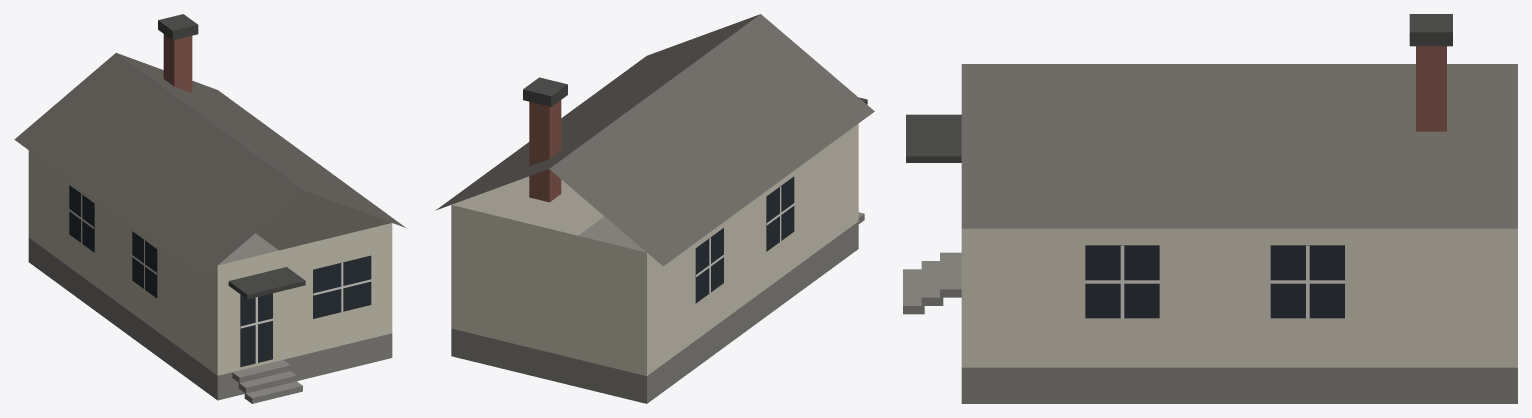
The model's file is lassis-inn.glb.
3 views of the same model, side by side, from view 1: azimuth 30°, elevation 25°; view 2: azimuth 150°, elevation 25°; view 3: azimuth 270°, elevation 25° (orthographic). The views are drawn at different scales.
Parts seen in each view (by area): view 1: lassis_roof, lassis_board, lassis_base, lassis_glass, lassis_trim, lassis_brick, lassis_sash; view 2: lassis_board, lassis_roof, lassis_base, lassis_glass, lassis_brick, lassis_trim, lassis_sash; view 3: lassis_roof, lassis_board, lassis_base, lassis_glass, lassis_trim, lassis_brick, lassis_sash.
Part boxes in pixels (box(x1,y1,x2,y2)): lassis_roof: box(14, 53, 405, 277); lassis_board: box(28, 150, 392, 375); lassis_base: box(28, 233, 392, 403); lassis_glass: box(69, 185, 371, 367); lassis_trim: box(158, 14, 305, 299); lassis_brick: box(163, 34, 192, 92); lassis_sash: box(69, 194, 371, 363); lassis_board: box(451, 123, 858, 376); lassis_roof: box(435, 14, 874, 266); lassis_base: box(451, 212, 864, 403); lassis_glass: box(695, 176, 794, 303); lassis_brick: box(529, 100, 561, 202); lassis_trim: box(523, 77, 867, 106); lassis_sash: box(696, 186, 794, 293); lassis_roof: box(961, 64, 1517, 228); lassis_board: box(961, 228, 1517, 367); lassis_base: box(903, 252, 1517, 403); lassis_glass: box(1085, 245, 1344, 318); lassis_trim: box(906, 14, 1452, 162); lassis_brick: box(1416, 46, 1446, 131); lassis_sash: box(1085, 245, 1344, 318).
Bounding box in the file's own units: 5.6 × 6.1 × 9.95.
